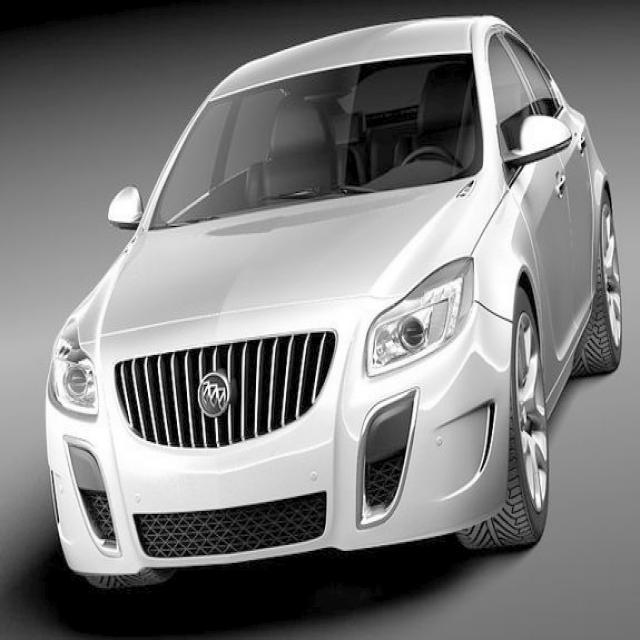car: (44, 13, 624, 591)
